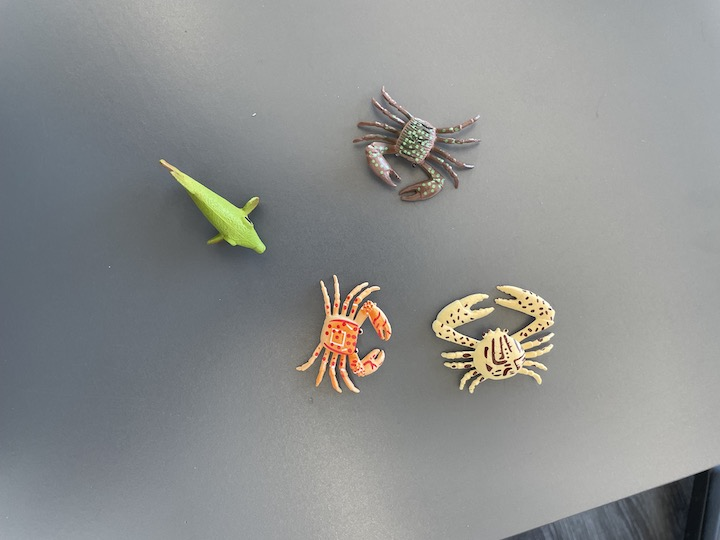crab: (350, 81, 484, 212), (426, 279, 559, 397), (292, 274, 396, 398)
fish: (157, 156, 271, 259)
